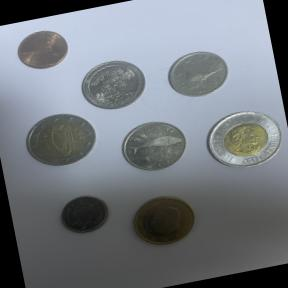1 Euro-B: (119, 184, 209, 257)
2 Euro-B: (20, 106, 102, 176)
Canada-10cent-B: (52, 185, 118, 241)
Canada-2Dollar-B: (195, 101, 288, 179)
Croatia-2Kune-B: (114, 114, 196, 178)
US-1cent-B: (6, 20, 79, 80)
US-25cent-B: (74, 52, 152, 118)
